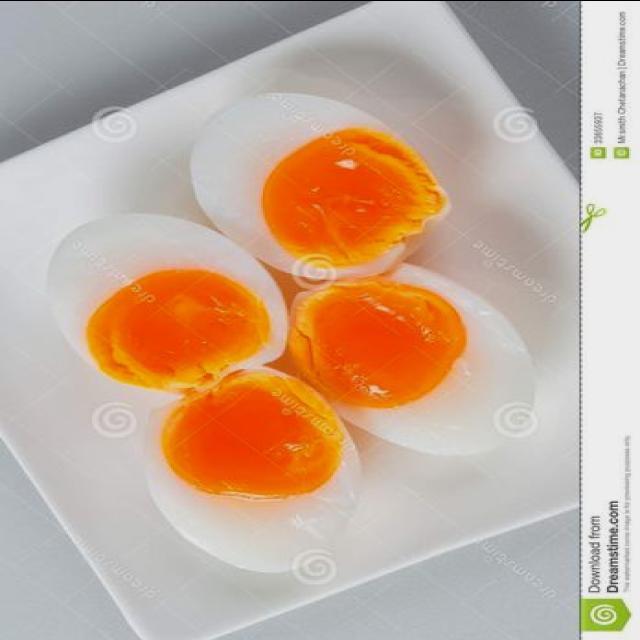telur rebus: (189, 92, 451, 280), (287, 261, 537, 456), (145, 367, 364, 582), (48, 214, 289, 394)
